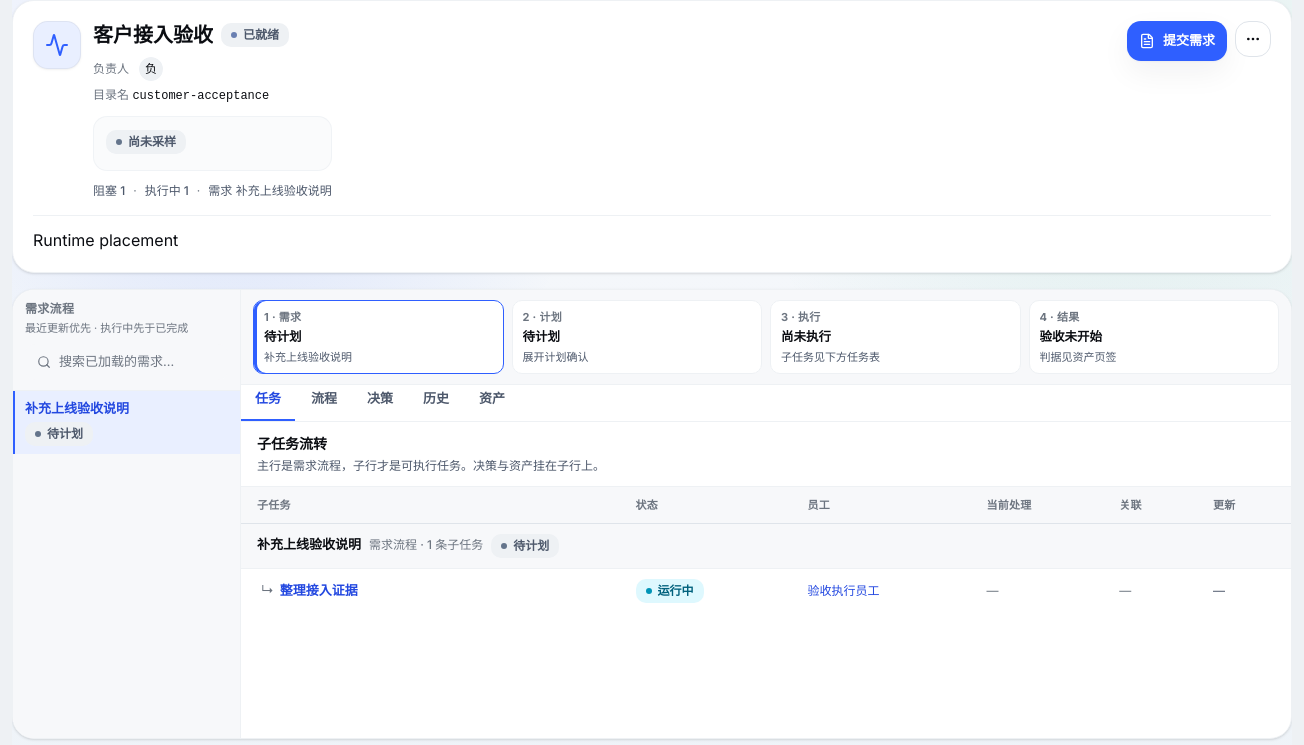
Test case: ProjectOperationalDetail › hides template and exit rows for an unbound demand carrying only a hallucinated template_key
The width and height of the screenshot is (1304, 745).
Click the button with test id "demand-river-plan".
click(637, 337)  # box [512,300,762,374]
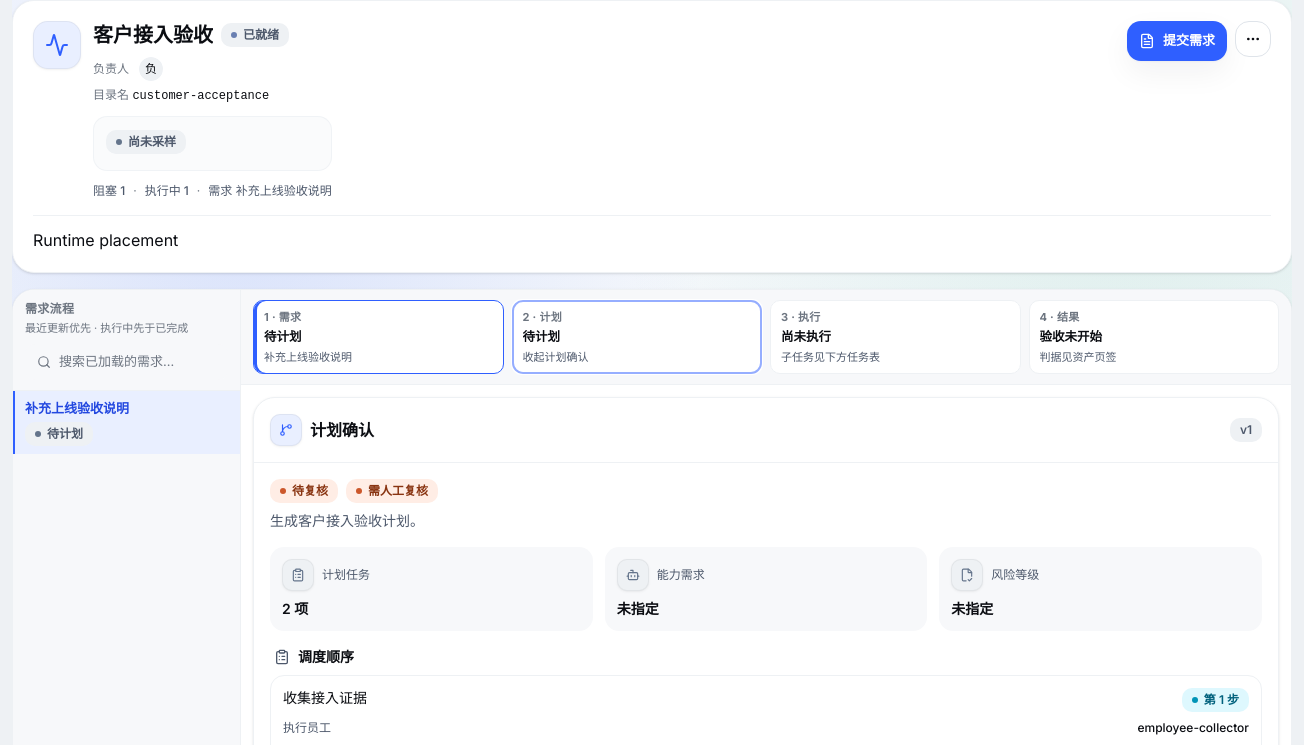
Result: the heading "调度顺序" is shown at [298,647,354,667]
